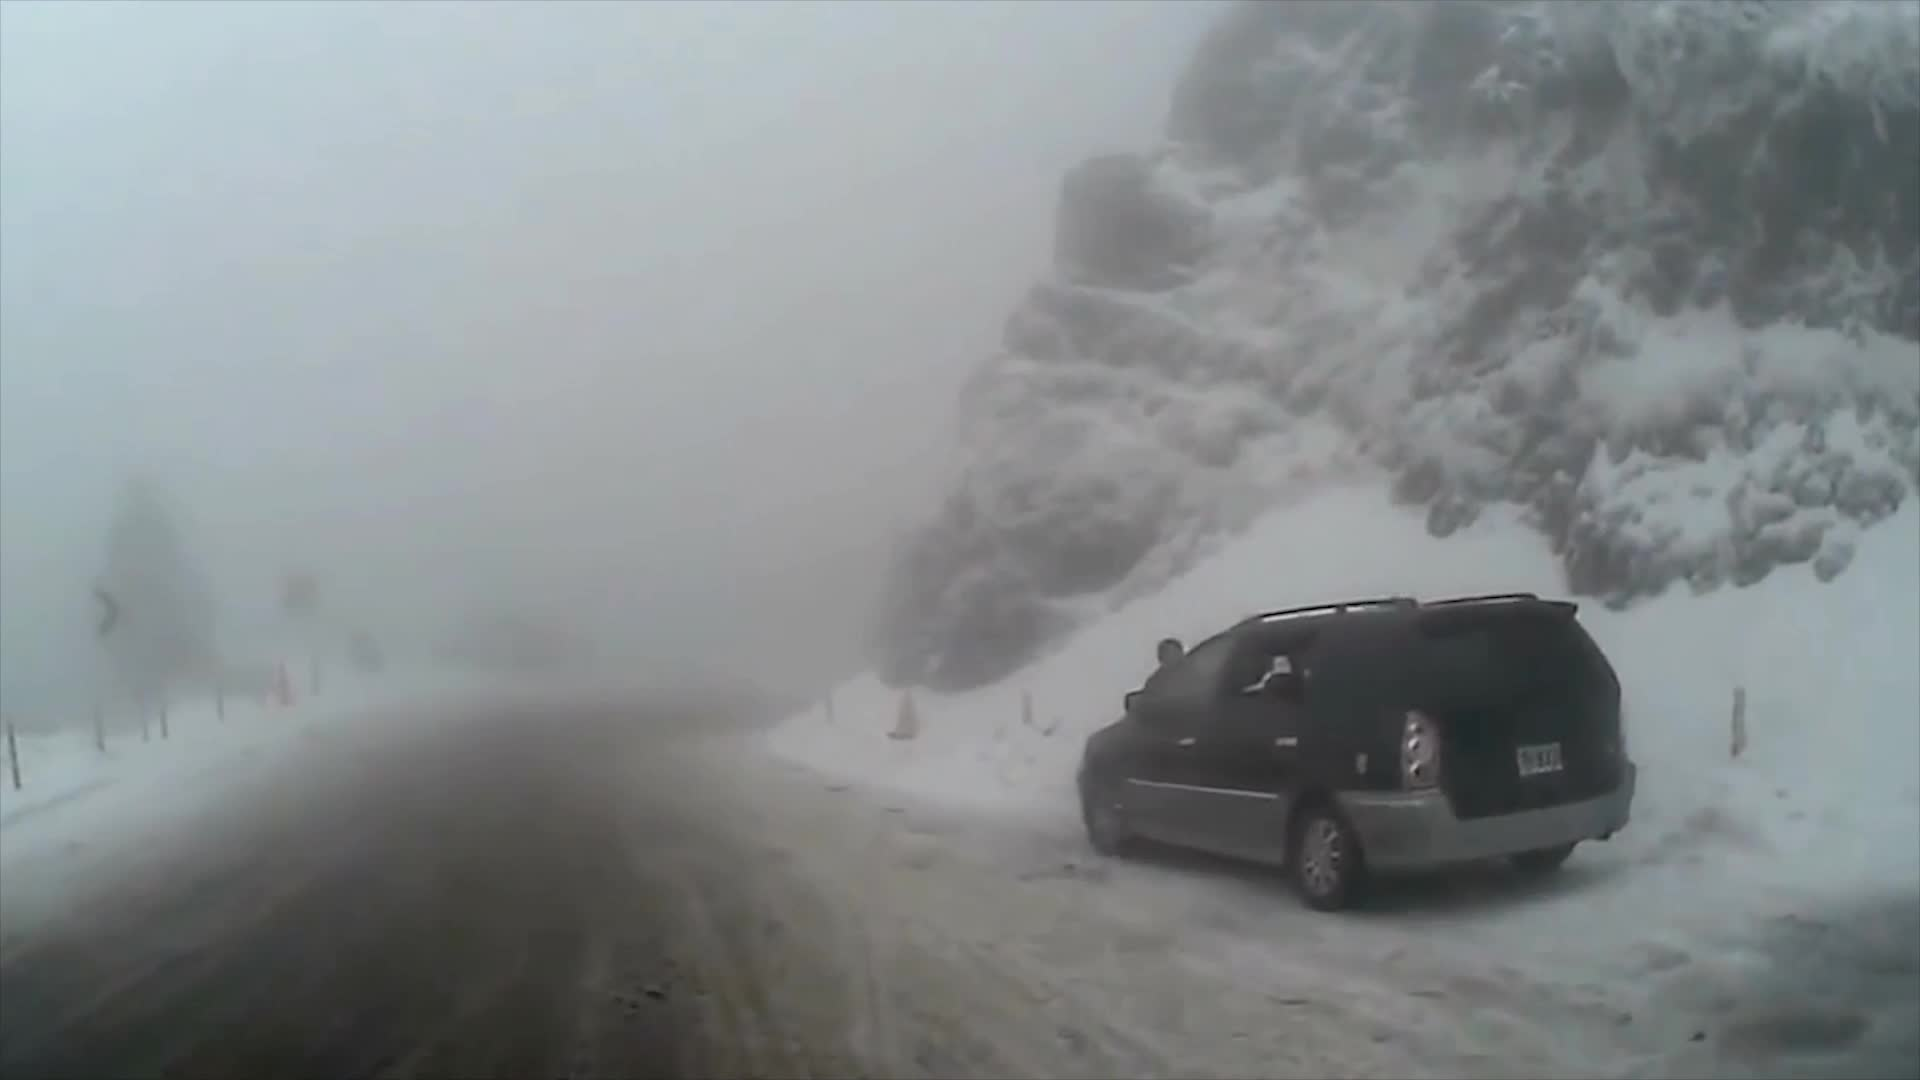vehicle: (1073, 587, 1636, 913)
